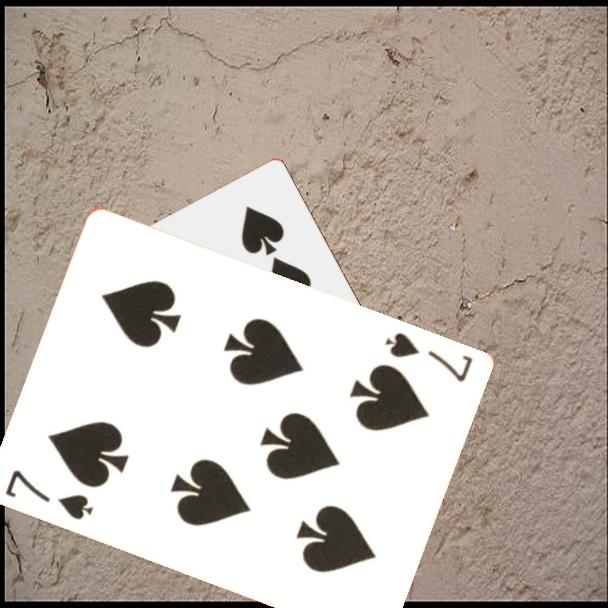s07: (382, 328, 477, 385), (2, 466, 97, 523)
